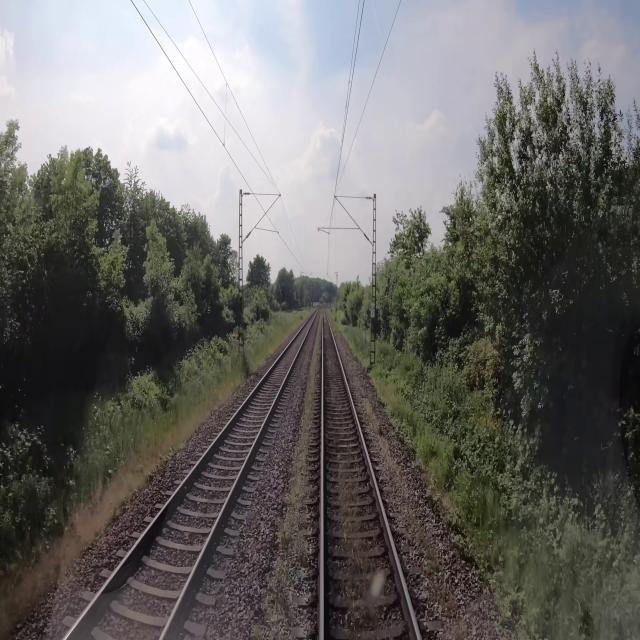Plant: (246, 311, 322, 639), (360, 393, 444, 576), (334, 438, 370, 628), (432, 580, 461, 617), (446, 524, 467, 553), (354, 461, 364, 479)
